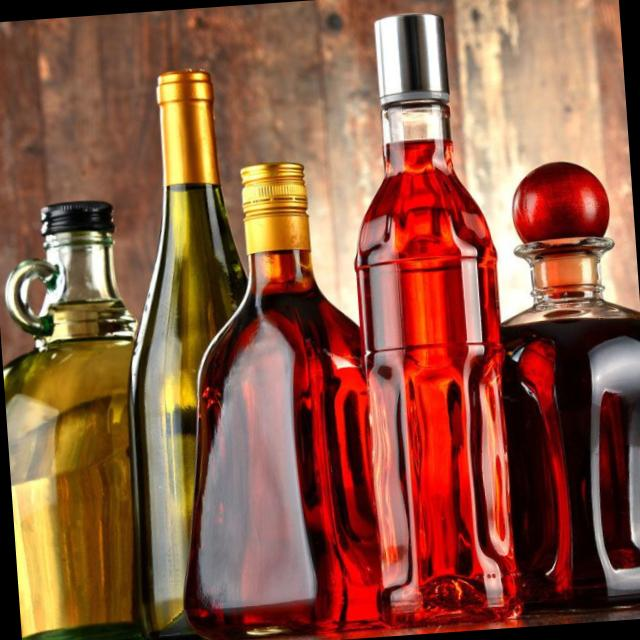glass: (341, 7, 539, 624), (175, 150, 382, 640), (127, 55, 252, 640), (3, 169, 145, 640), (500, 137, 640, 608)
